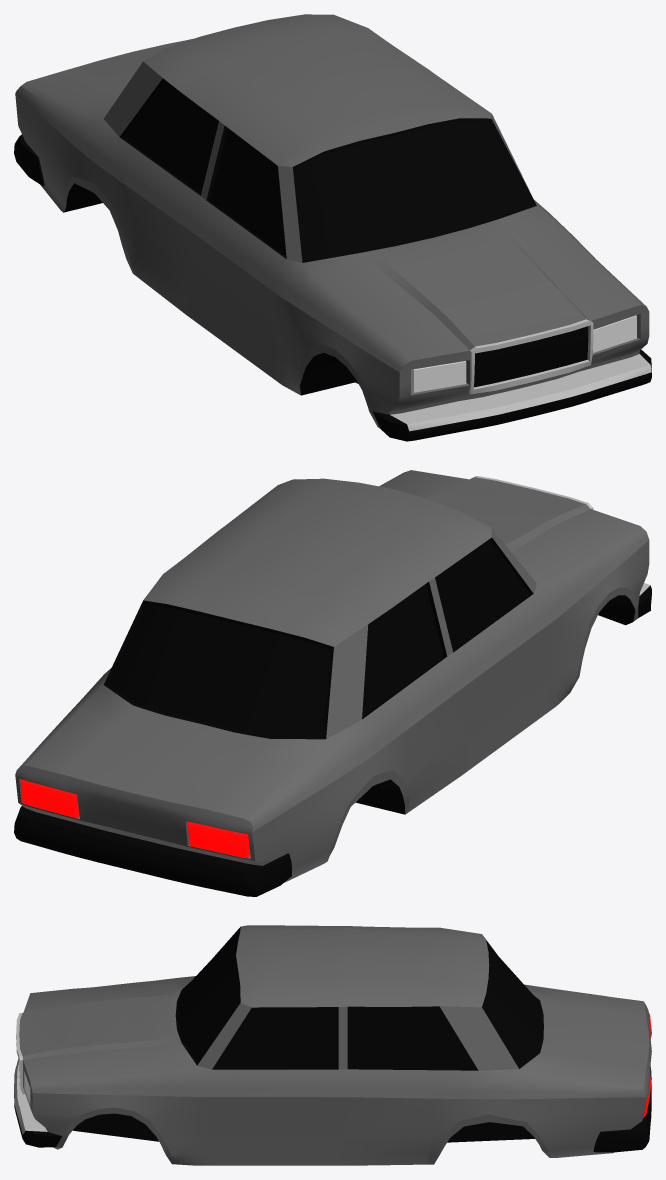
3 renders of one model, top to bottom at view 1: azimuth 30°, elevation 25°; view 2: azimuth 150°, elevation 25°; view 3: azimuth 270°, elevation 25°, orthographic. The views are drawn at different scales.
Parts seen in each view (by area): view 1: 2107; view 2: 2107; view 3: 2107.
Boxes of the visible parts, x1,y1,x2,y2 form: 2107: [14, 14, 651, 441]; 2107: [14, 470, 651, 896]; 2107: [14, 925, 651, 1165].
Bounding box in the file's own units: 164 × 114 × 408.
